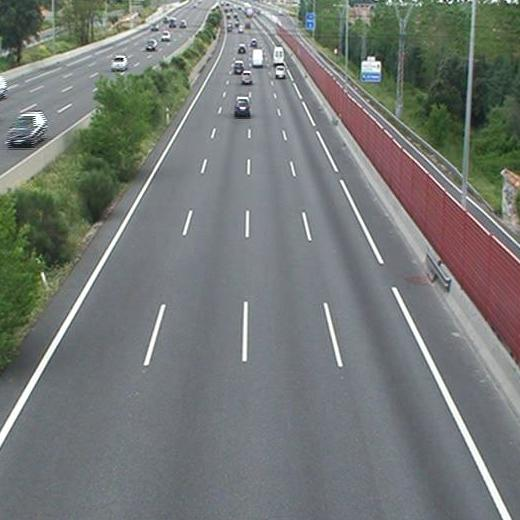car: (234, 98, 250, 116), (242, 71, 253, 85), (274, 66, 285, 78), (233, 61, 243, 73), (237, 44, 245, 53)
van: (272, 47, 284, 64), (251, 49, 262, 67)
